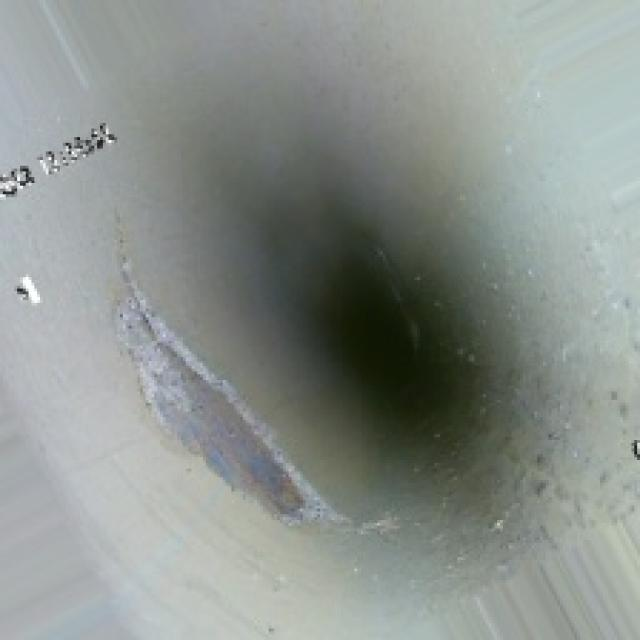pipe_surface_damage: (94, 246, 334, 543)
